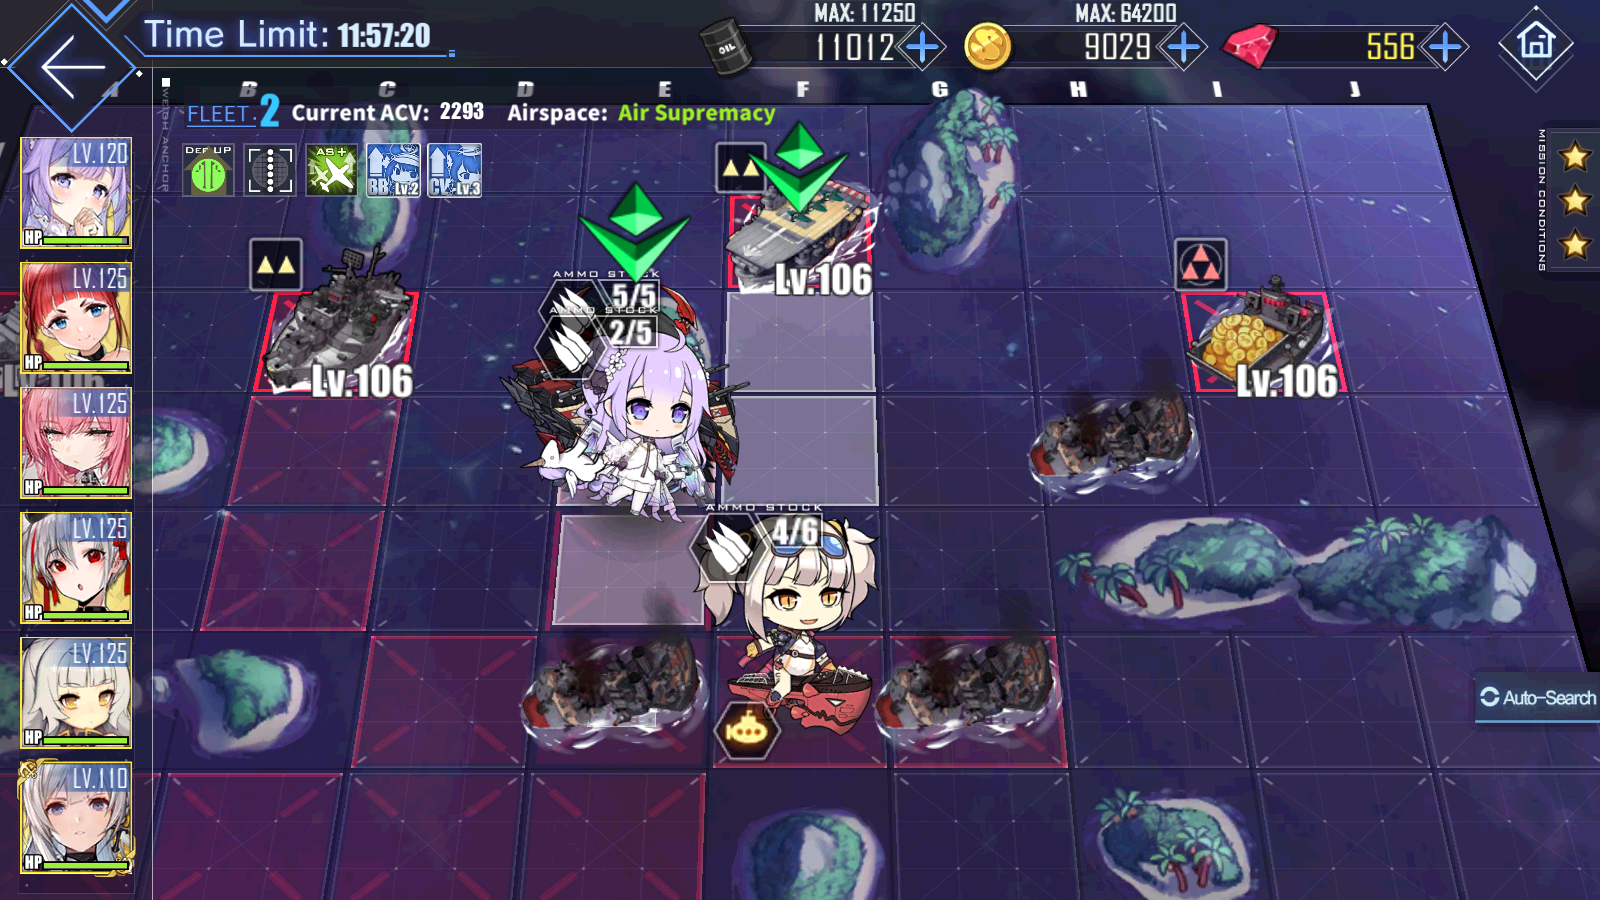ally: (501, 267, 738, 490), (682, 502, 876, 733), (537, 305, 708, 520)
enemy: (1174, 238, 1345, 396), (251, 237, 412, 397), (712, 140, 871, 295)
